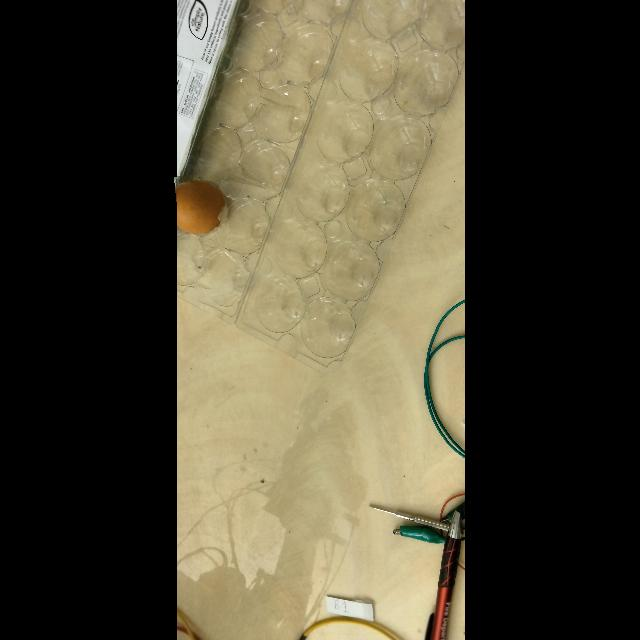Egg: (175, 173, 228, 239)
